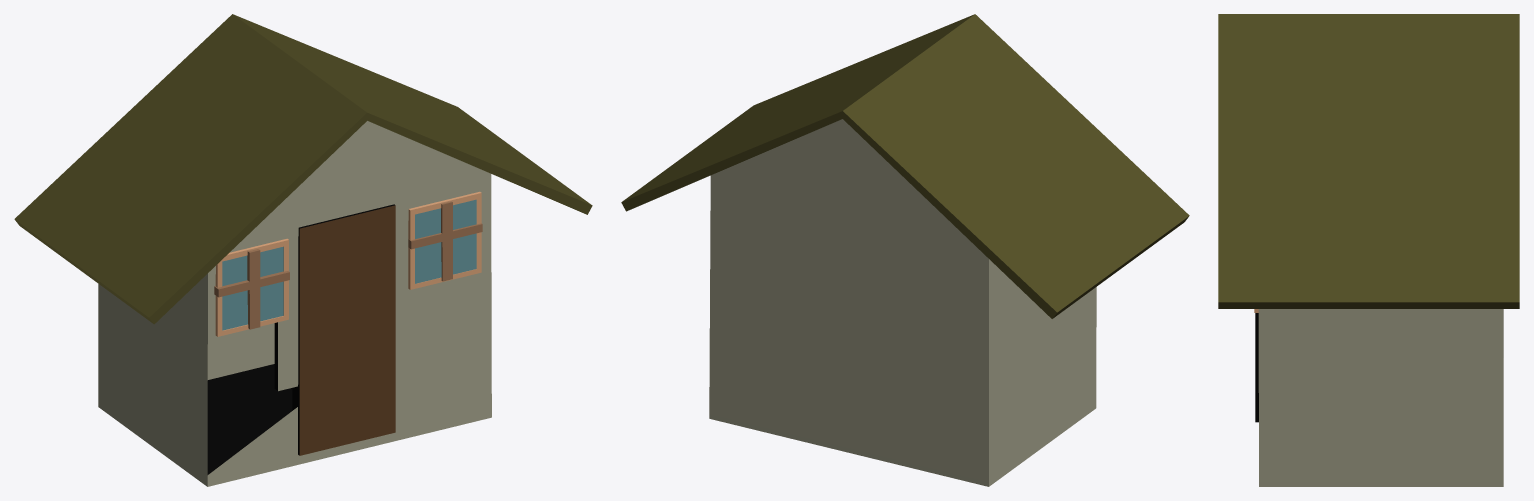
File: casita_checkpoint.fbx
The picture shows the model from 3 angles, left to right: view 1: azimuth 30°, elevation 25°; view 2: azimuth 150°, elevation 25°; view 3: azimuth 270°, elevation 25°; orthographic projection. The views are drawn at different scales.
Parts seen in each view (by area): view 1: casita:group1pCube10, casita:group1pCube11, casita:pCube2group1, casita:group1pCube4, casita:group1pCube5, casita:group1pCube6, pCube1, pCube2, casita:group1pCube3; view 2: casita:group1pCube11, casita:group1pCube10; view 3: casita:group1pCube10, casita:group1pCube11, casita:pCube2group1.
Boxes of the visible parts, x1=… form: casita:group1pCube10: x1=14, y1=14, x2=592, y2=324; casita:group1pCube11: x1=98, y1=121, x2=491, y2=486; casita:pCube2group1: x1=292, y1=204, x2=395, y2=455; casita:group1pCube4: x1=415, y1=199, x2=476, y2=283; casita:group1pCube5: x1=222, y1=246, x2=283, y2=330; casita:group1pCube6: x1=214, y1=249, x2=289, y2=329; pCube1: x1=408, y1=191, x2=481, y2=289; pCube2: x1=215, y1=238, x2=288, y2=336; casita:group1pCube3: x1=408, y1=201, x2=482, y2=281; casita:group1pCube11: x1=709, y1=119, x2=1096, y2=486; casita:group1pCube10: x1=621, y1=14, x2=1189, y2=318; casita:group1pCube10: x1=1218, y1=14, x2=1519, y2=308; casita:group1pCube11: x1=1258, y1=309, x2=1503, y2=486; casita:pCube2group1: x1=1255, y1=313, x2=1258, y2=422.
Bounding box in the file's own units: 38.61 × 29.38 × 20.32.
